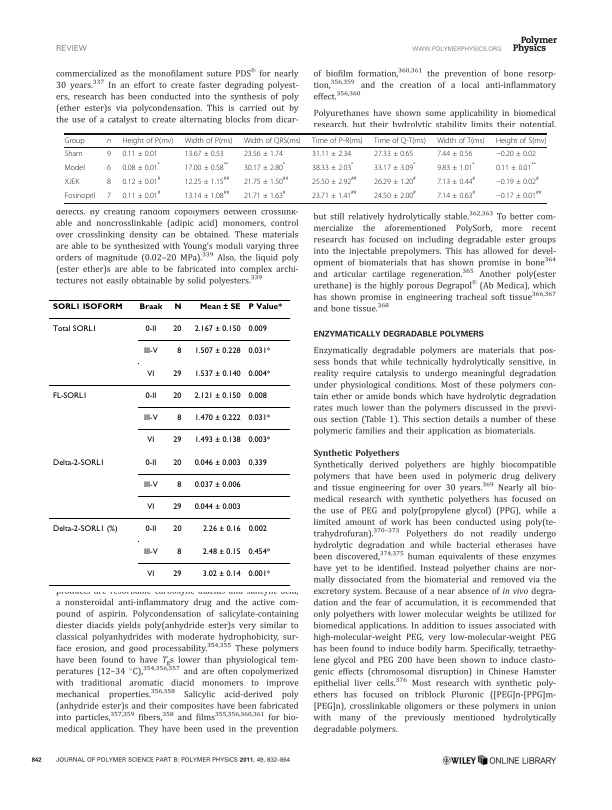borderless: (48, 298, 290, 585), (64, 132, 547, 203)
cell: (51, 525, 118, 535), (51, 458, 105, 468), (243, 136, 302, 145), (495, 189, 542, 200), (184, 175, 230, 186), (243, 175, 289, 186), (311, 175, 357, 186), (184, 189, 230, 200), (311, 189, 357, 200), (51, 303, 123, 310), (184, 161, 229, 172), (495, 175, 540, 186), (373, 136, 427, 145), (373, 175, 417, 186), (243, 189, 287, 200), (373, 189, 417, 200), (193, 347, 241, 357), (193, 369, 241, 379), (193, 391, 241, 401), (193, 413, 241, 423), (193, 436, 241, 446), (193, 458, 241, 468), (193, 480, 241, 490), (121, 136, 174, 145), (311, 136, 364, 145), (243, 161, 286, 172), (311, 161, 354, 172), (373, 161, 416, 172), (495, 136, 547, 145), (495, 161, 537, 172), (436, 136, 486, 145), (184, 136, 233, 145), (121, 161, 161, 172), (436, 161, 476, 172), (121, 175, 161, 186), (436, 175, 476, 186), (121, 189, 161, 200), (436, 189, 476, 200), (193, 325, 241, 334), (193, 503, 241, 512), (51, 325, 97, 334), (201, 525, 241, 535), (201, 547, 241, 557), (201, 569, 241, 579), (495, 149, 537, 158), (51, 391, 88, 401), (184, 149, 225, 158), (243, 149, 284, 158), (311, 149, 352, 158), (373, 149, 414, 158), (121, 149, 159, 158), (436, 149, 473, 158), (198, 303, 241, 310), (64, 191, 96, 200), (247, 303, 282, 310), (247, 347, 271, 357), (247, 369, 271, 379), (247, 413, 271, 423), (247, 436, 271, 446), (247, 547, 271, 557), (247, 569, 271, 579), (247, 391, 267, 401), (247, 458, 267, 468), (247, 525, 267, 535), (64, 163, 86, 172), (64, 136, 85, 145), (247, 325, 267, 334), (138, 303, 163, 310), (64, 149, 83, 158), (142, 347, 158, 357), (142, 413, 158, 423), (142, 480, 158, 490), (142, 547, 158, 557), (64, 177, 80, 186), (144, 391, 157, 401), (144, 458, 157, 468), (144, 525, 157, 535), (144, 325, 157, 334), (172, 369, 182, 379), (172, 391, 182, 401), (172, 436, 182, 446), (172, 458, 182, 468), (172, 525, 182, 535), (172, 569, 182, 579), (172, 325, 182, 334), (146, 369, 155, 379), (146, 436, 155, 446), (172, 503, 182, 512), (146, 569, 155, 579), (146, 503, 155, 512), (173, 303, 182, 310), (176, 347, 182, 357), (176, 413, 182, 423), (176, 480, 182, 490), (176, 547, 182, 557), (106, 149, 112, 158), (106, 163, 112, 172), (106, 177, 112, 186), (106, 191, 112, 200), (106, 138, 112, 144)
